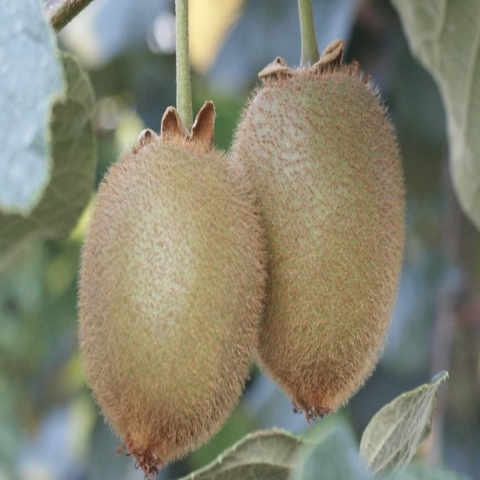kiwi: (217, 52, 423, 416), (79, 93, 268, 477)
